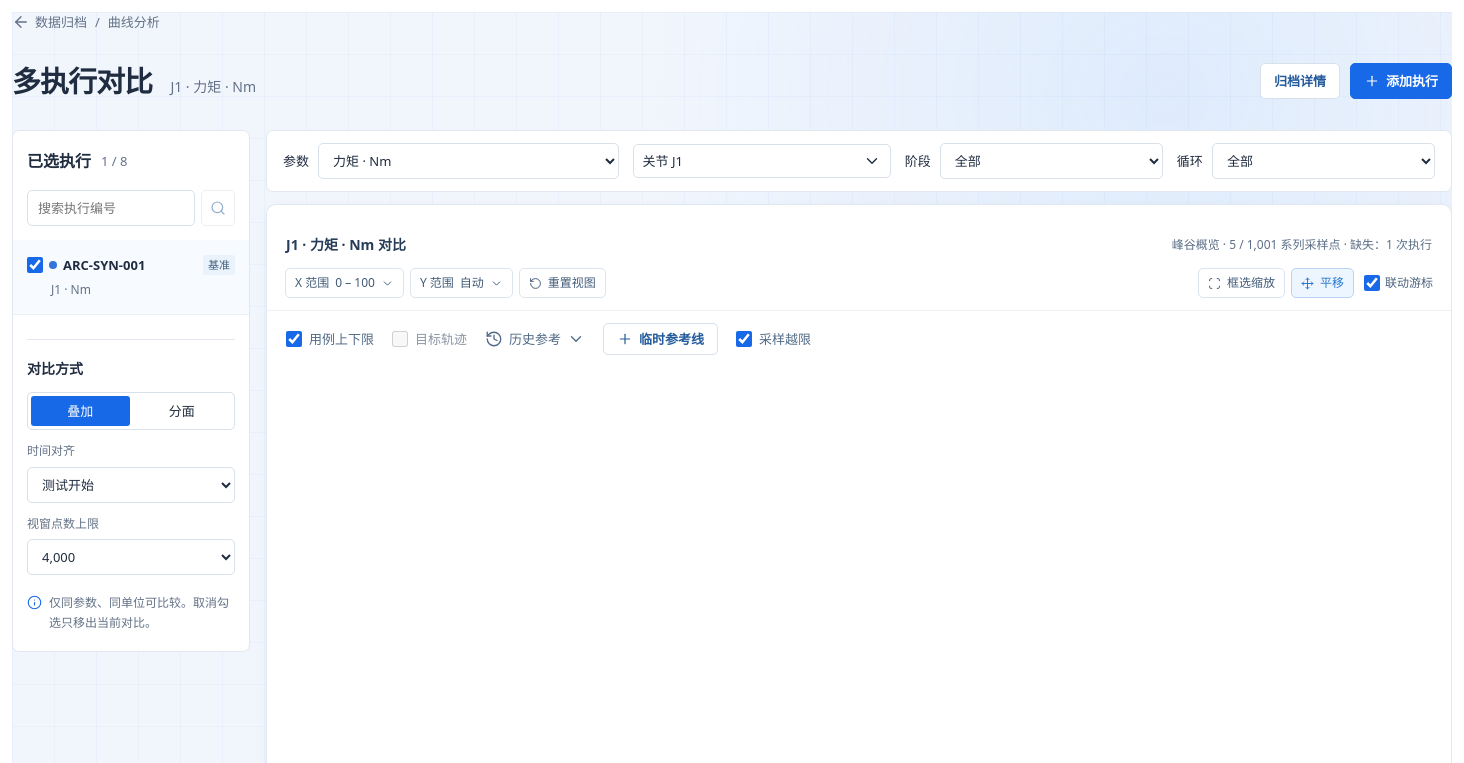
Test: includes and excludes a comparison without deleting it, then removes it without mutating the archive
The width and height of the screenshot is (1464, 763).
Check: the dropdown labelled "参数" is shown, box [318,143,619,179]
Check: the picture with class "time-series-canvas" is shown, box [267,366,285,384]
Type "ARC-SYN-002" into the field named "查找测试记录" at (111, 208), box [27,190,195,226]
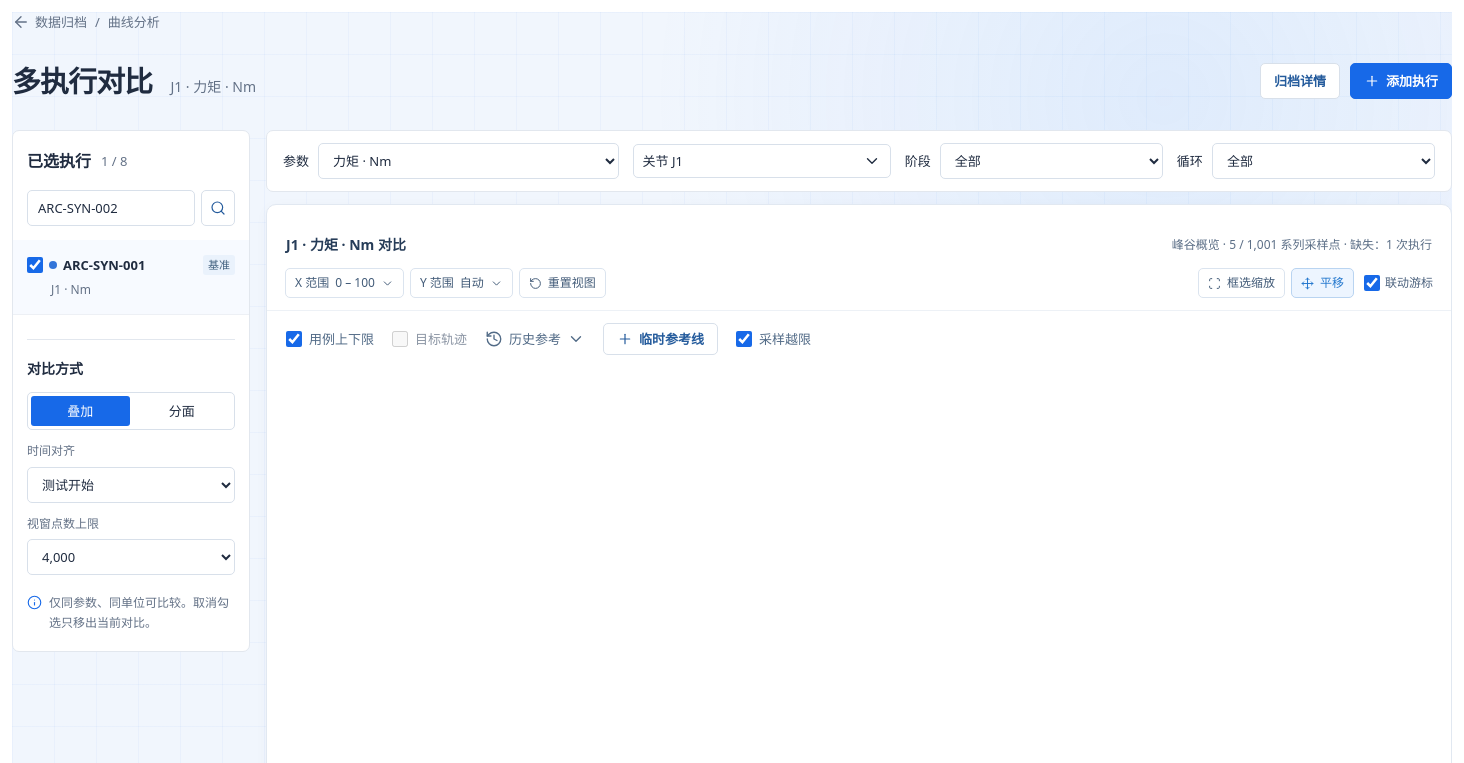
Click the button named "查找对比记录" at (218, 208), box [201,190,235,226]
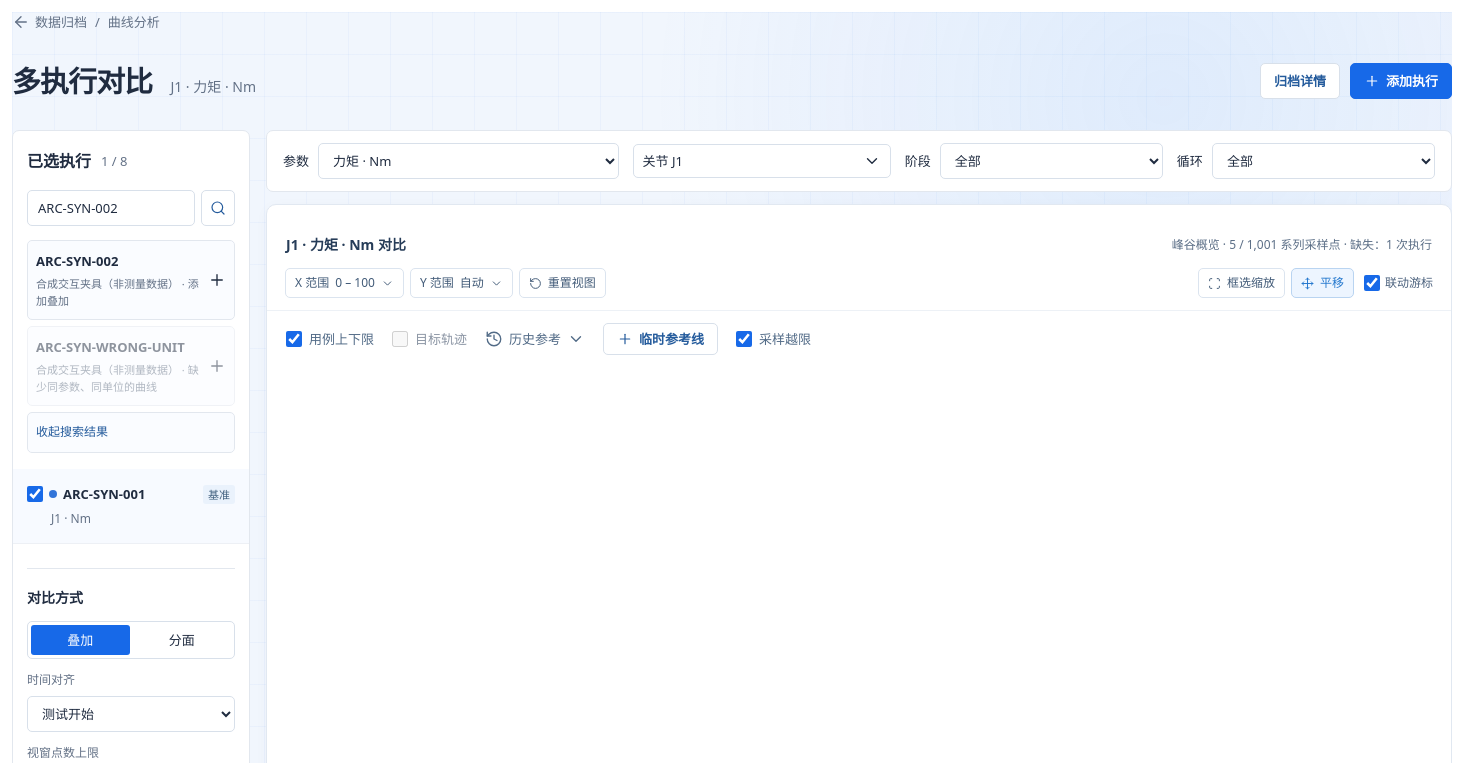
Click the button "ARC-SYN-002 合成交互夹具（非测量数据） · 添加叠加" at (131, 280), box [27,240,235,320]
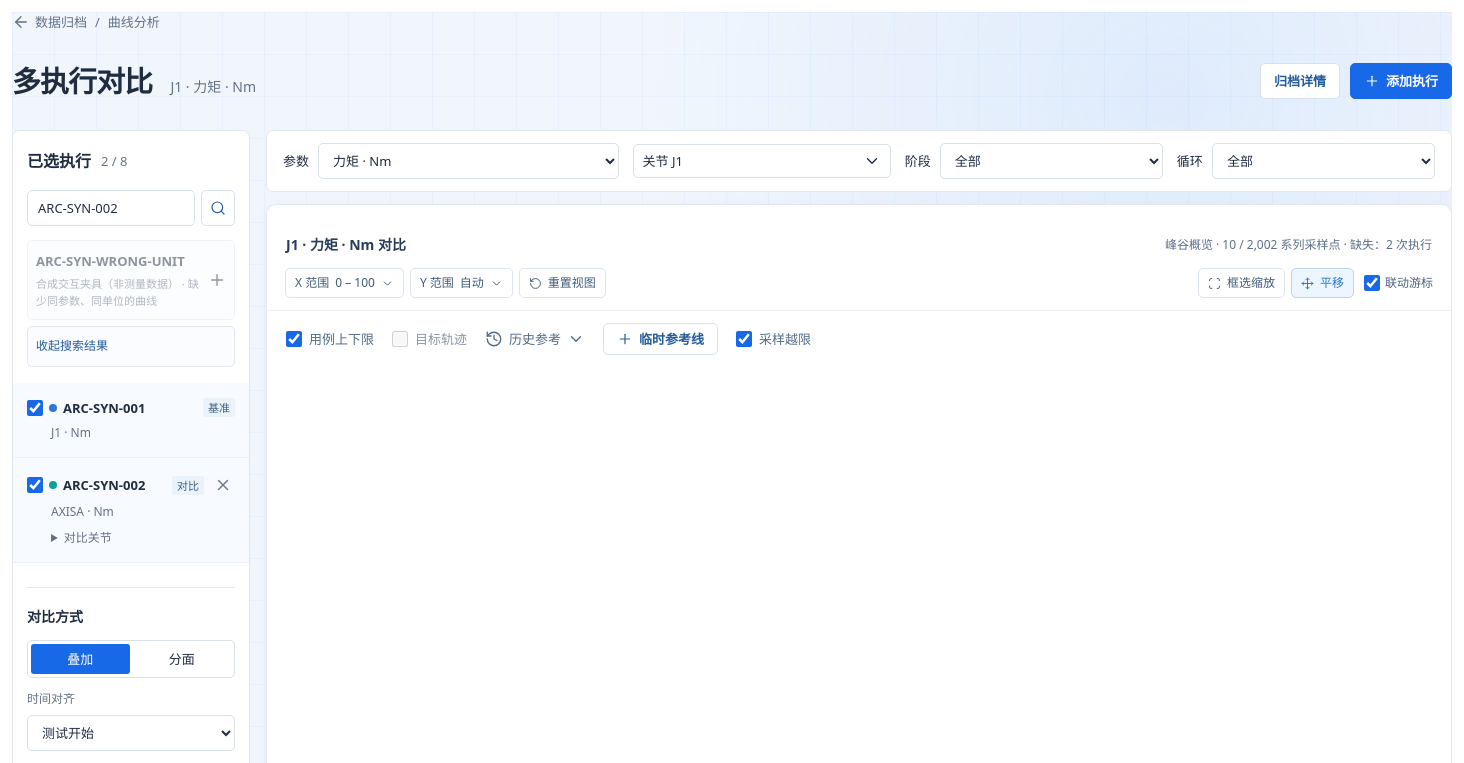
Check: the picture with class "time-series-canvas" is shown, box [267,366,285,384]
Click the checkbox named "参与对比 ARC-SYN-002" at (35, 485), box [27,477,43,493]
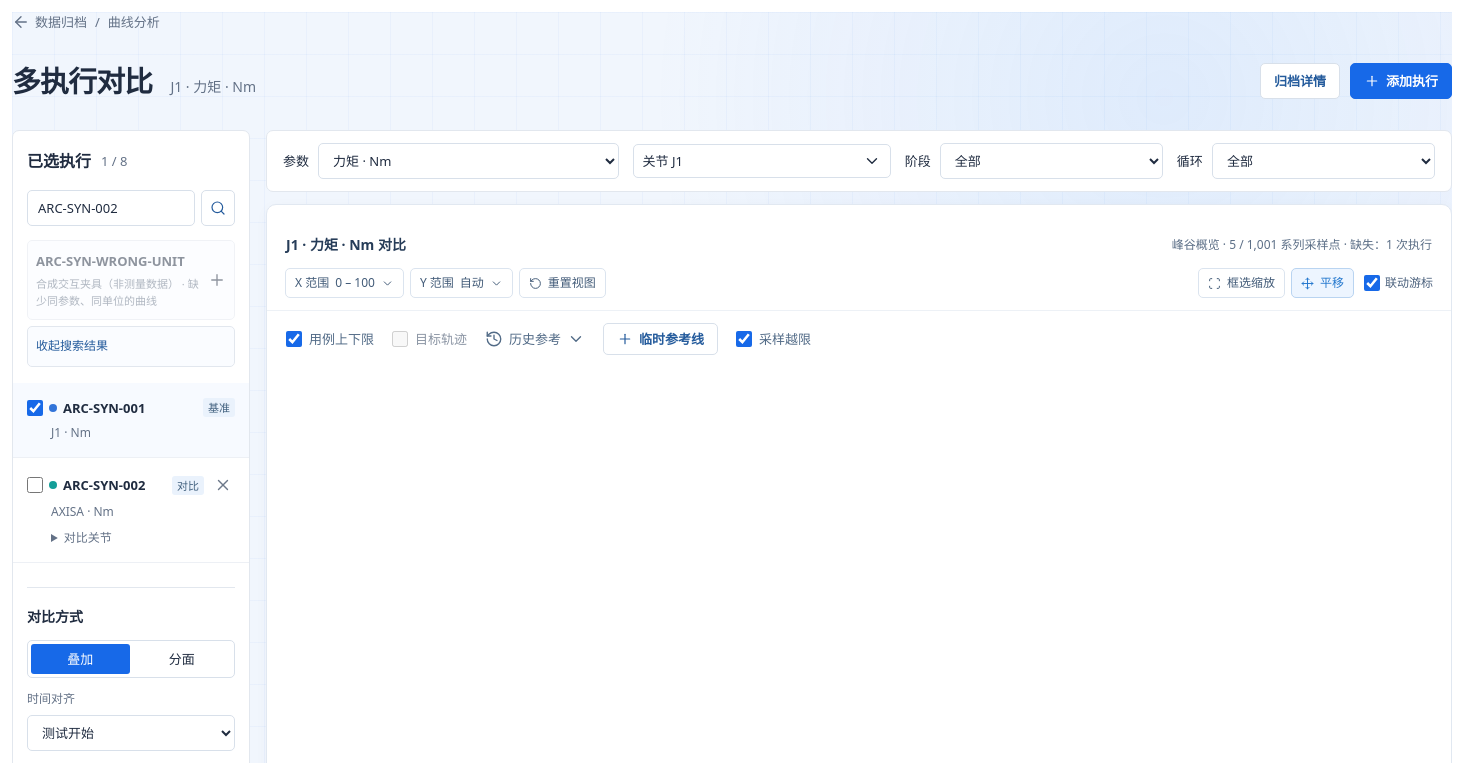
Check: the picture with class "time-series-canvas" is shown, box [267,366,285,384]
Check: the button named "移除对比 ARC-SYN-002" is shown, box [211,473,235,497]
Click the checkbox named "参与对比 ARC-SYN-002" at (35, 485), box [27,477,43,493]
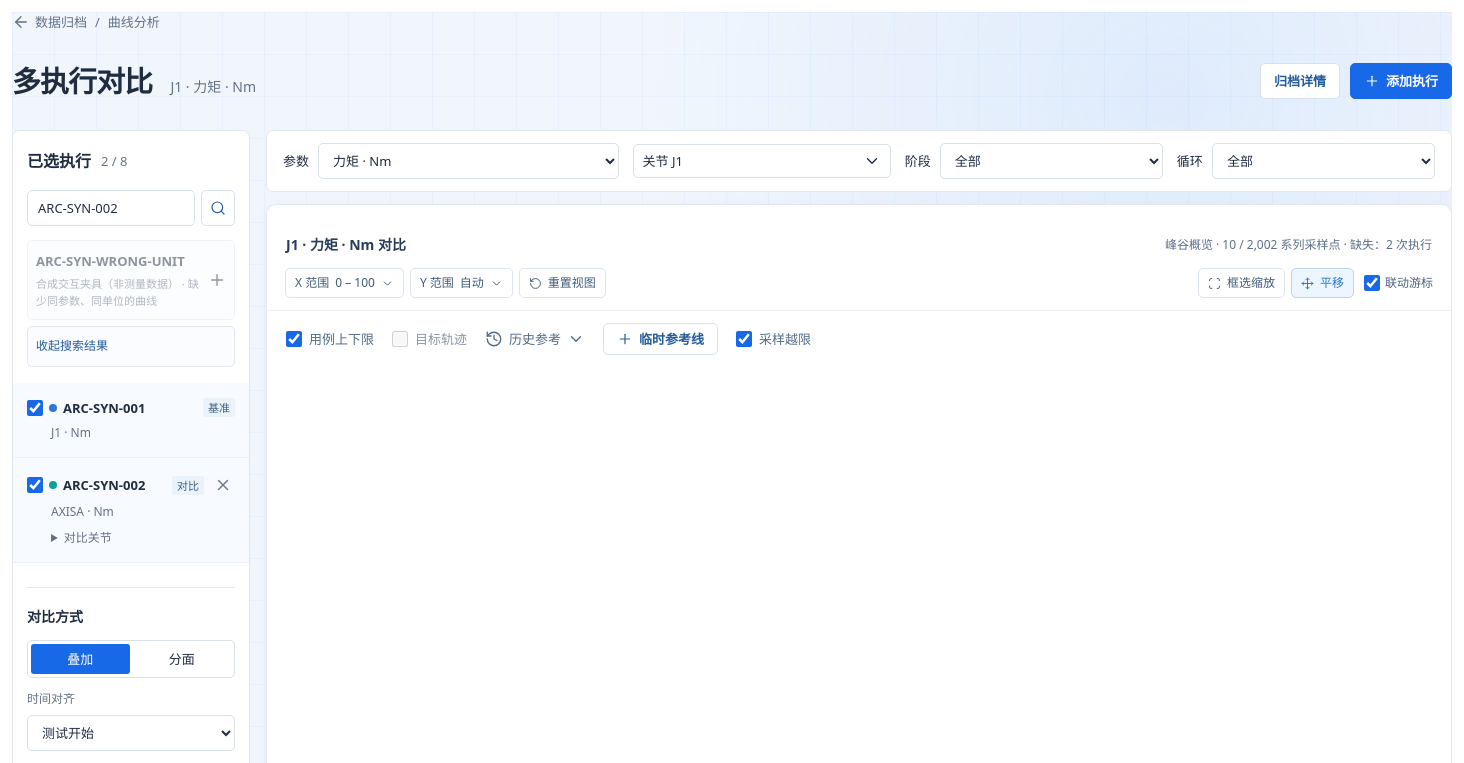
Check: the picture with class "time-series-canvas" is shown, box [267,366,285,384]
Click the button named "移除对比 ARC-SYN-002" at (223, 485), box [211,473,235,497]
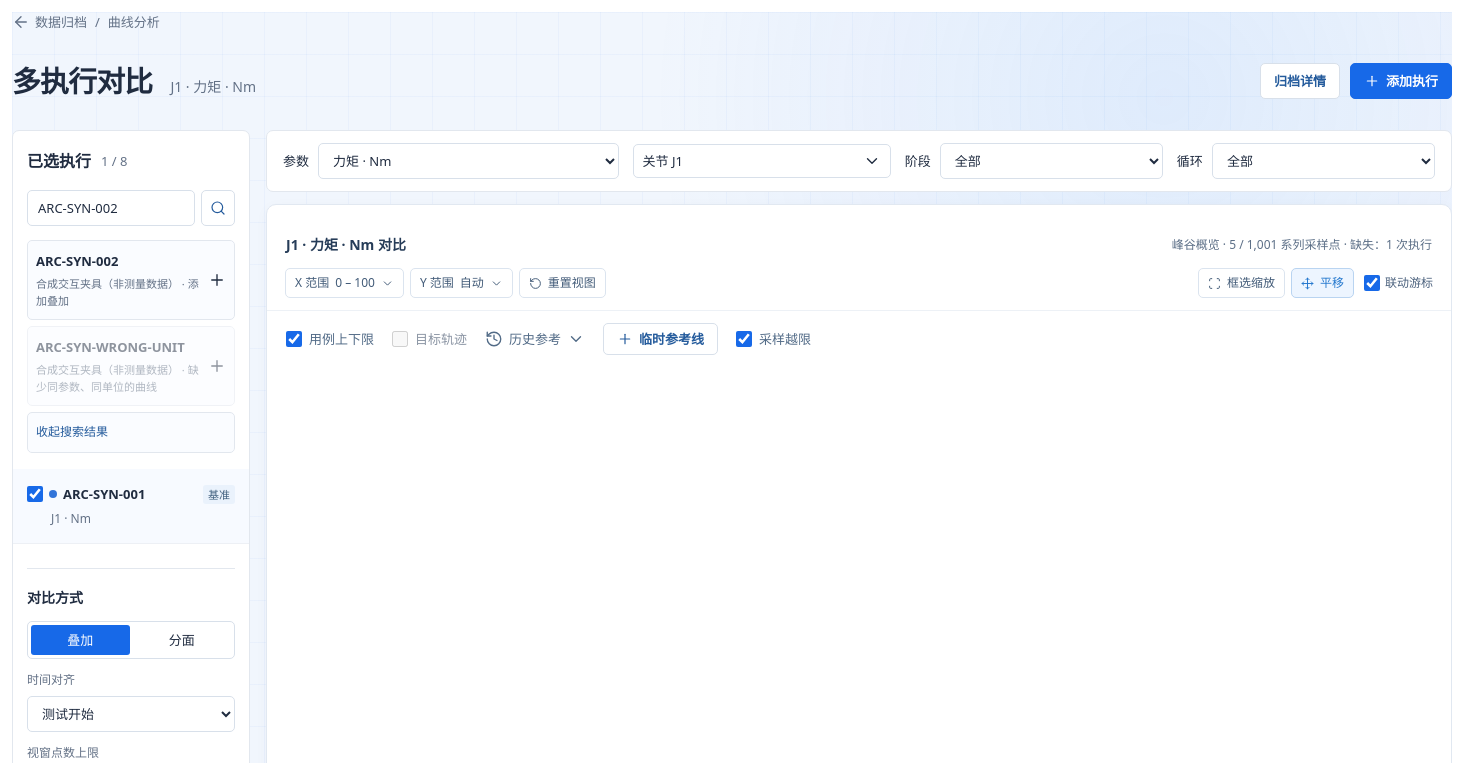
Check: the picture with class "time-series-canvas" is shown, box [267,366,285,384]
Check: the checkbox labelled "移除对比 ARC-SYN-002" is gone
